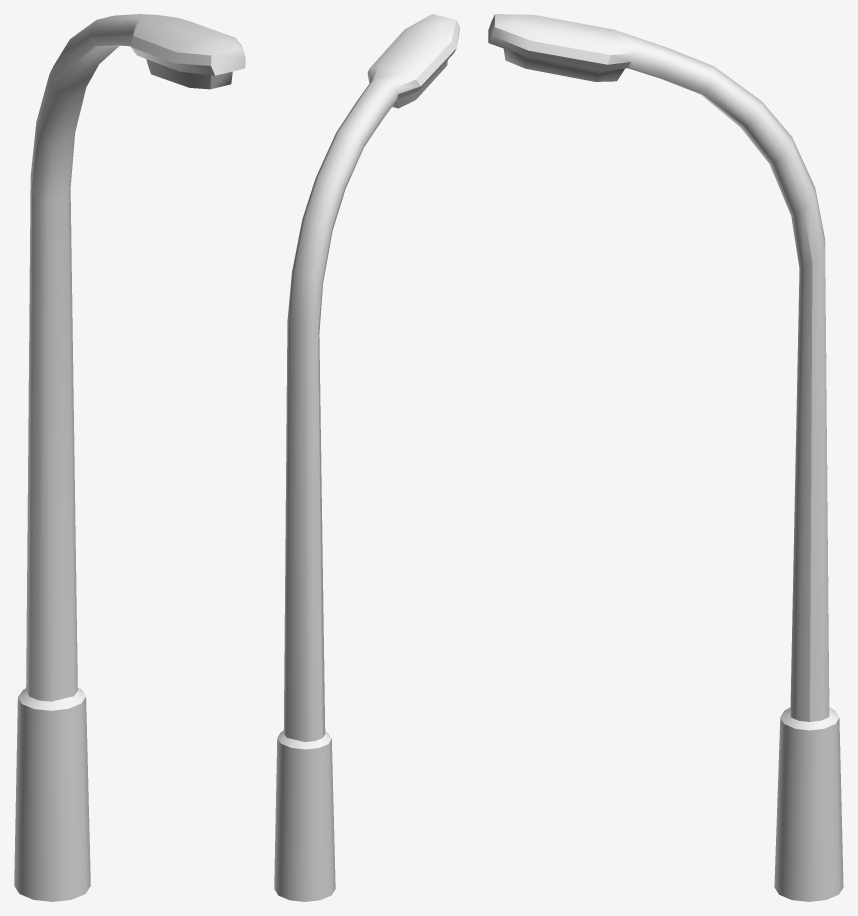
File: StreetLight.fbx
The picture shows the model from 3 angles, left to right: view 1: azimuth 30°, elevation 25°; view 2: azimuth 150°, elevation 25°; view 3: azimuth 270°, elevation 25°; orthographic projection. The views are drawn at different scales.
Visible parts, largest first — view 1: StreetLight; view 2: StreetLight; view 3: StreetLight.
Boxes of the visible parts, x1=… form: StreetLight: x1=14, y1=14, x2=245, y2=901; StreetLight: x1=274, y1=14, x2=459, y2=901; StreetLight: x1=488, y1=14, x2=843, y2=901.
Bounding box in the file's own units: 0.4182 × 5.63 × 2.09.
